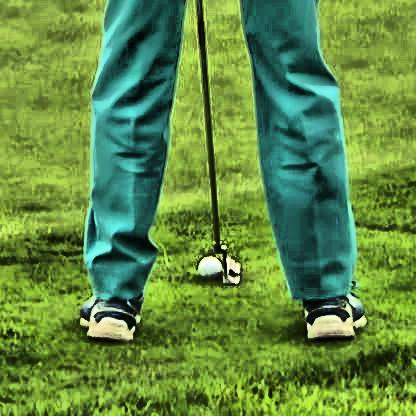golfball: (197, 253, 216, 275)
